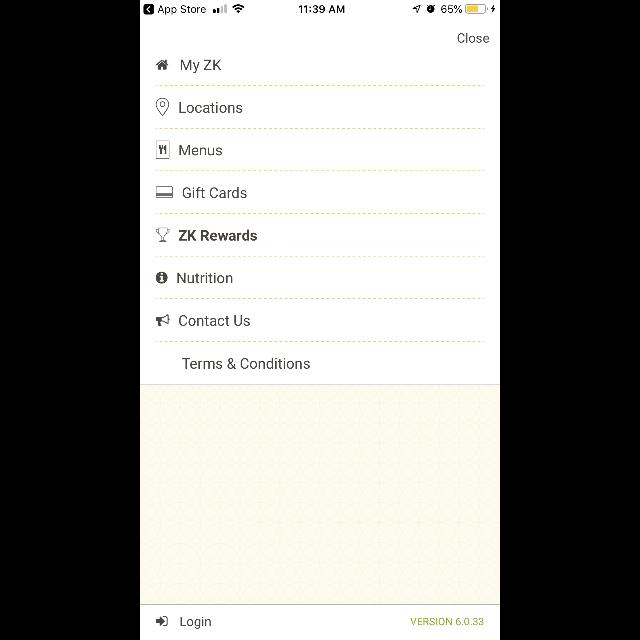icon: (156, 98, 170, 116), (156, 186, 174, 198), (156, 272, 168, 284), (156, 616, 168, 626), (156, 60, 168, 70)
image: (156, 141, 170, 159), (156, 228, 170, 242), (156, 314, 170, 326)
text: (182, 358, 310, 368), (179, 230, 257, 240), (183, 186, 247, 198), (180, 102, 242, 114), (180, 316, 250, 326), (178, 272, 232, 284), (411, 617, 484, 625), (181, 60, 221, 74), (180, 144, 222, 156), (457, 32, 489, 44), (181, 617, 211, 629)
uppertaskbar: (140, 1, 500, 16)
